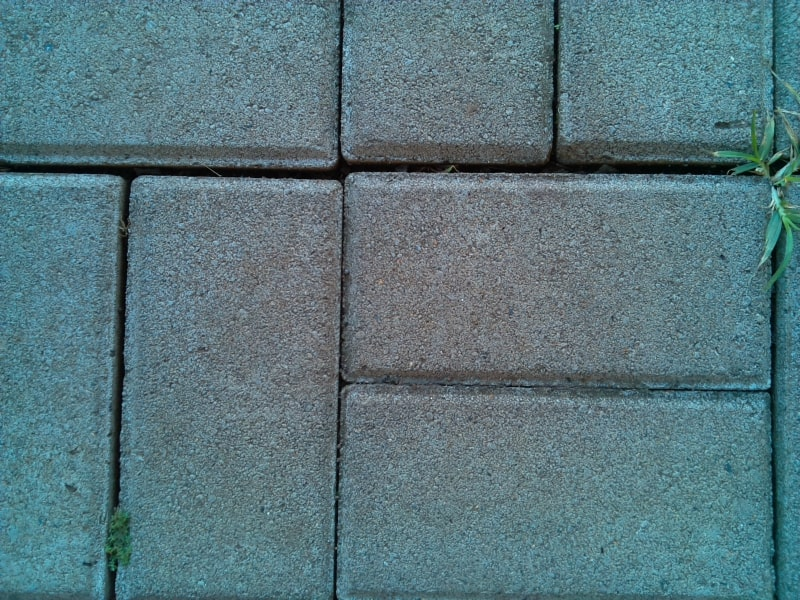Weed: (736, 119, 800, 245), (105, 508, 133, 569)
